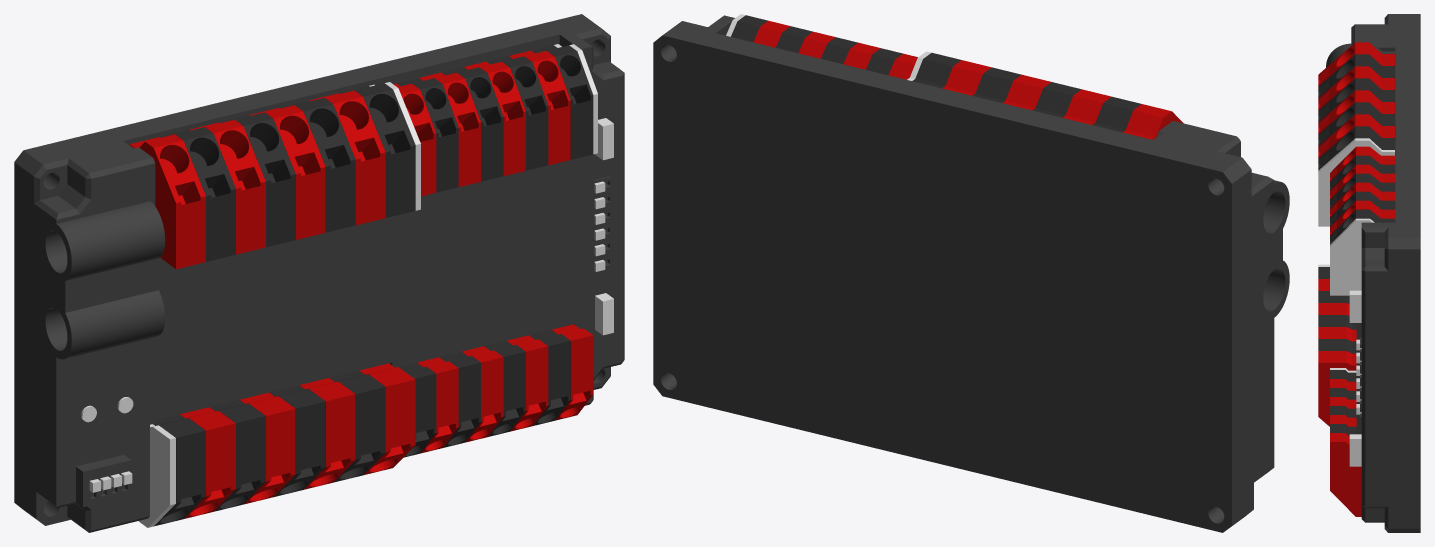
The model's file is Power Distribution Panel.obj.
The picture shows the model from 3 angles, left to right: view 1: azimuth 30°, elevation 25°; view 2: azimuth 150°, elevation 25°; view 3: azimuth 270°, elevation 25°; orthographic projection. The views are drawn at different scales.
Visible parts, largest first — view 1: mesh381, mesh113, mesh82, mesh229, mesh582, mesh85, mesh83, mesh428, mesh84, mesh96, mesh154, mesh546 (+44 smaller); view 2: mesh249, mesh113, mesh229; view 3: mesh252, mesh229, mesh276, mesh710, mesh391, mesh248, mesh163, mesh233, mesh853, mesh869, mesh36, mesh40 (+75 smaller).
Part boxes in pixels (box(x1,y1,x2,y2)): mesh381: box(155, 154, 594, 420); mesh113: box(14, 162, 71, 518); mesh82: box(56, 337, 155, 530); mesh229: box(24, 14, 601, 173); mesh582: box(575, 46, 622, 403); mesh85: box(57, 201, 165, 280); mesh83: box(65, 290, 165, 358); mesh428: box(123, 34, 559, 144); mesh84: box(65, 258, 158, 312); mesh96: box(56, 163, 155, 223); mesh154: box(385, 379, 415, 452); mesh546: box(355, 152, 385, 225); mesh249: box(653, 35, 1231, 532); mesh113: box(1232, 170, 1289, 525); mesh229: box(662, 15, 1241, 171); mesh252: box(1365, 249, 1420, 528); mesh229: box(1355, 14, 1420, 237); mesh276: box(1330, 220, 1371, 295); mesh710: box(1330, 442, 1361, 516); mesh391: box(1318, 140, 1394, 226); mesh248: box(1361, 270, 1365, 506); mesh163: box(1318, 363, 1356, 426); mesh233: box(1388, 237, 1420, 249); mesh853: box(1349, 439, 1361, 466); mesh869: box(1349, 295, 1361, 322); mesh36: box(1318, 327, 1346, 338); mesh40: box(1318, 339, 1346, 350).
Bounding box in the file's own units: 0.1927 × 0.1208 × 0.036.
